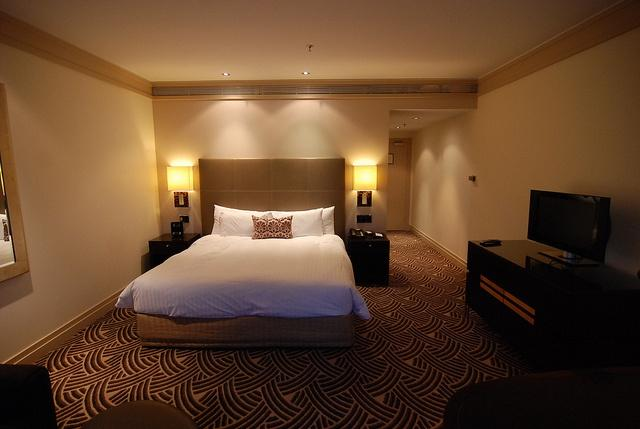AIO PC-Monitor-TV: (525, 188, 611, 266)
